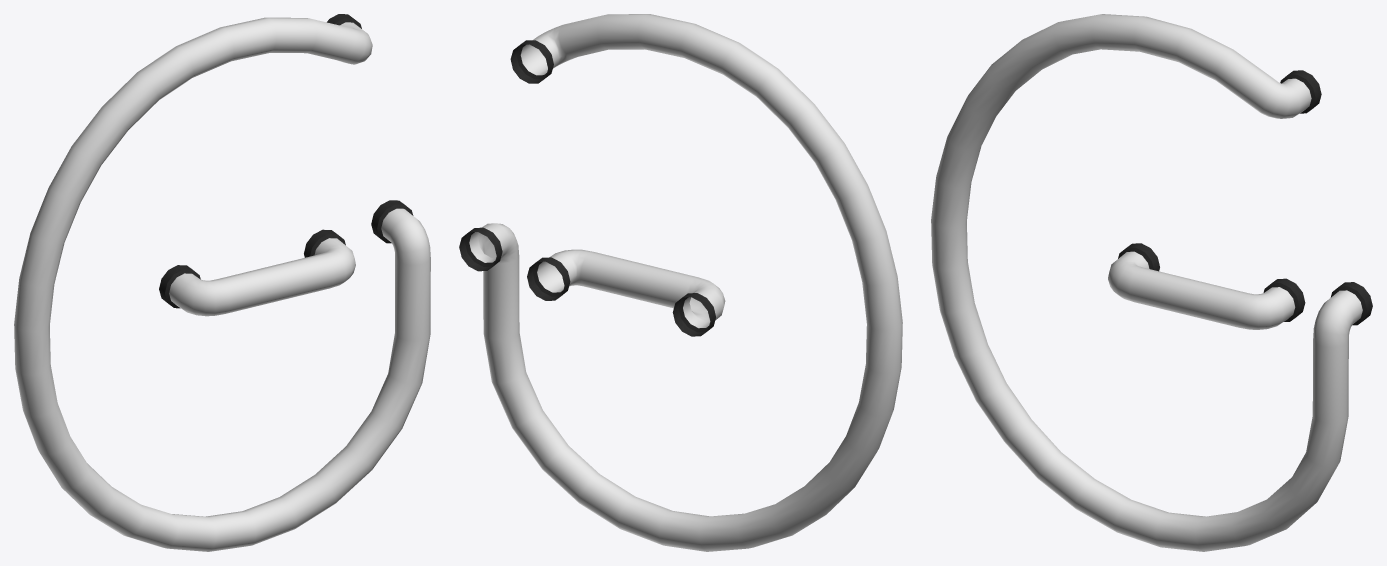
File: LettersNeon01_G.FBX
3 renders of one model, left to right at view 1: azimuth 30°, elevation 25°; view 2: azimuth 150°, elevation 25°; view 3: azimuth 330°, elevation 25°, orthographic.
Visible parts, largest first — view 1: LettersNeon01_G; view 2: LettersNeon01_G; view 3: LettersNeon01_G.
Boxes of the visible parts, left/top/right/bottom form: LettersNeon01_G: left=14, top=14, right=430, bottom=551; LettersNeon01_G: left=459, top=14, right=902, bottom=551; LettersNeon01_G: left=931, top=14, right=1372, bottom=551.
Size of what is drawn, in the model's own units: 0.4034 by 0.4843 by 0.054.
